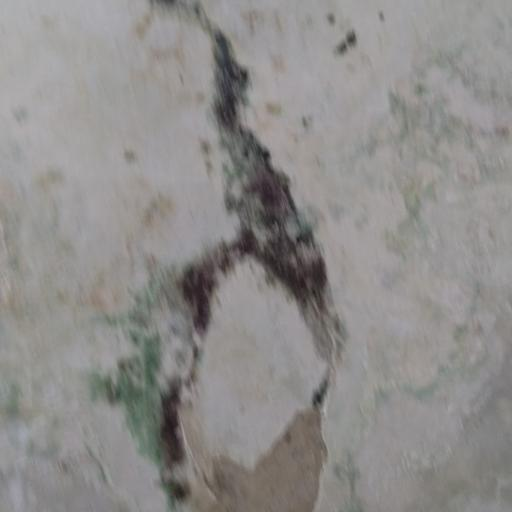algae: (88, 4, 351, 488)
